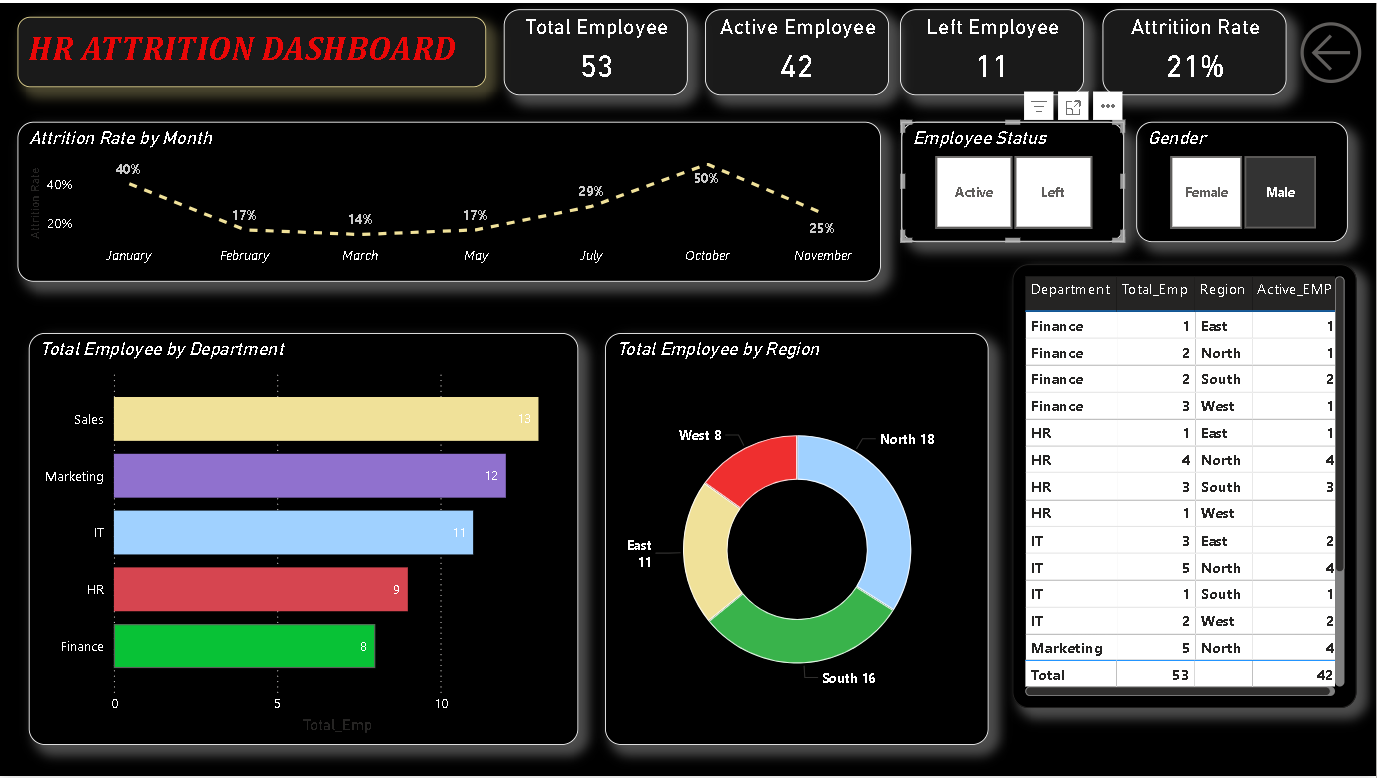

The dashboard page shown, as its layout file describes it:
{"tool":"powerbi","page":{"name":"Page 1","canvas":[1280,720],"ordinal":0},"visuals":[{"type":"card","title":"Total Employee","fields":{"Values":["HR.Total_Emp"]},"box":[468.6,5.7,171.4,80],"z":0},{"type":"card","title":"Active Employee","fields":{"Values":["HR.Active_EMP"]},"box":[655.7,5.7,171.4,80],"z":1000},{"type":"card","title":"Left Employee","fields":{"Values":["HR.Left_EMP"]},"box":[837.1,5.7,171.4,80],"z":2000},{"type":"card","title":"Attritiion Rate","fields":{"Values":["HR.Attrition Rate"]},"box":[1025.7,5.7,171.4,80],"z":3000},{"type":"textbox","box":[15.7,12.9,435.7,65.7],"z":4000},{"type":"barChart","title":"Total Employee by Department","fields":{"Category":["HR.Department"],"Y":["HR.Total_Emp"]},"box":[27.1,307.1,511.4,382.9],"z":5000},{"type":"slicer","title":"Gender","fields":{"Values":["HR.Gender"]},"box":[1057,110,197,112],"z":6000},{"type":"lineChart","fields":{"Y":["HR.Attrition Rate"],"Category":["HR.JoinDate.Variation.Date Hierarchy.Month"]},"box":[15.7,110,802.9,148.6],"z":7000},{"type":"slicer","title":"Employee Status","fields":{"Values":["HR.Status"]},"box":[838,110,207,112],"z":8000},{"type":"donutChart","title":"Total Employee by Region","fields":{"Category":["HR.Region"],"Y":["HR.Total_Emp"]},"box":[562.9,307.1,357.1,382.9],"z":9000},{"type":"tableEx","title":" ","fields":{"Values":["HR.Department","HR.Total_Emp","HR.Region","HR.Active_EMP"]},"box":[942,243,320,413],"z":10000},{"type":"actionButton","box":[1202.9,10,72.9,71.4],"z":11000}]}

Visuals, with their boxes in screenshot pixels (x1, y1, x2, y2), scaled from the page's 1280x720 canvas onto the 1377x778 screenshot:
"Total Employee" card: crop(504, 6, 688, 93)
"Active Employee" card: crop(705, 6, 890, 93)
"Left Employee" card: crop(901, 6, 1085, 93)
"Attritiion Rate" card: crop(1103, 6, 1288, 93)
textbox: crop(17, 14, 486, 85)
"Total Employee by Department" barChart: crop(29, 332, 579, 746)
"Gender" slicer: crop(1137, 119, 1349, 240)
lineChart - HR.Attrition Rate x HR.JoinDate.Variation.Date Hierarchy.Month: crop(17, 119, 881, 279)
"Employee Status" slicer: crop(902, 119, 1124, 240)
"Total Employee by Region" donutChart: crop(606, 332, 990, 746)
" " tableEx: crop(1013, 263, 1358, 709)
actionButton: crop(1294, 11, 1372, 88)
